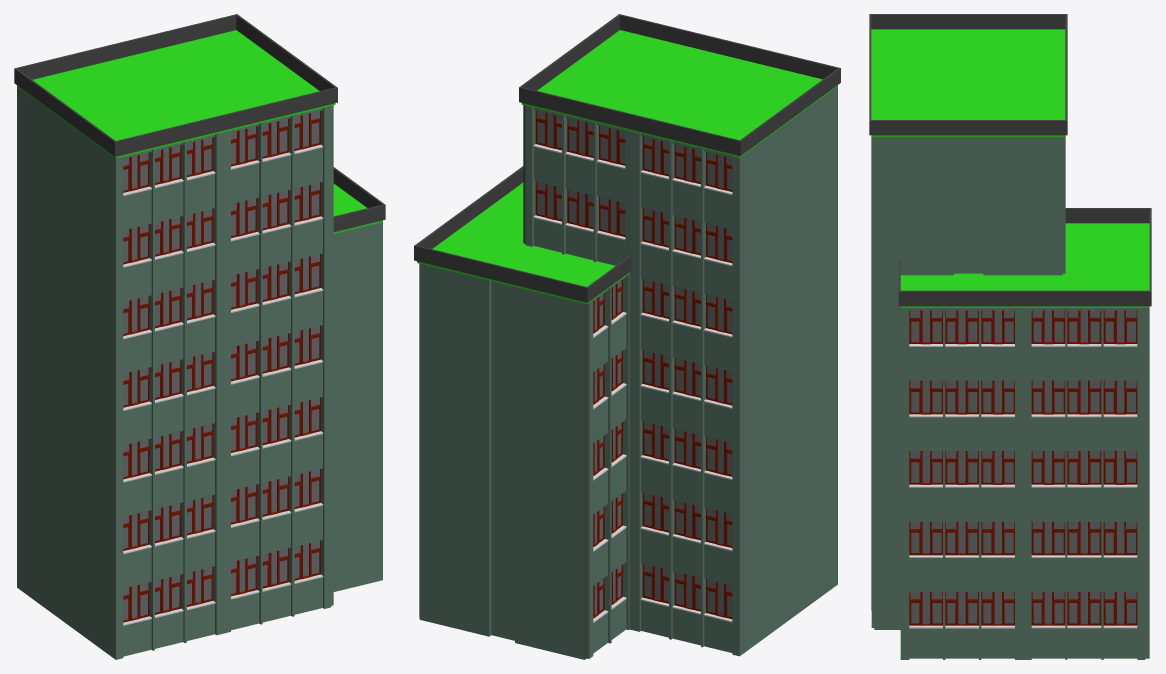
Rendered from SM_Building_6.fbx.
3 views of the same model, side by side, from view 1: azimuth 30°, elevation 25°; view 2: azimuth 150°, elevation 25°; view 3: azimuth 270°, elevation 25° (orthographic).
Visible parts, largest first — view 1: Plane.029; view 2: Plane.029; view 3: Plane.029.
Part boxes in pixels (x1,y1,x2,y2): Plane.029: (14,14,385,659); Plane.029: (414,14,840,659); Plane.029: (869,14,1151,659).
Size of the model in its own units: 1343 by 2332 by 1170.
